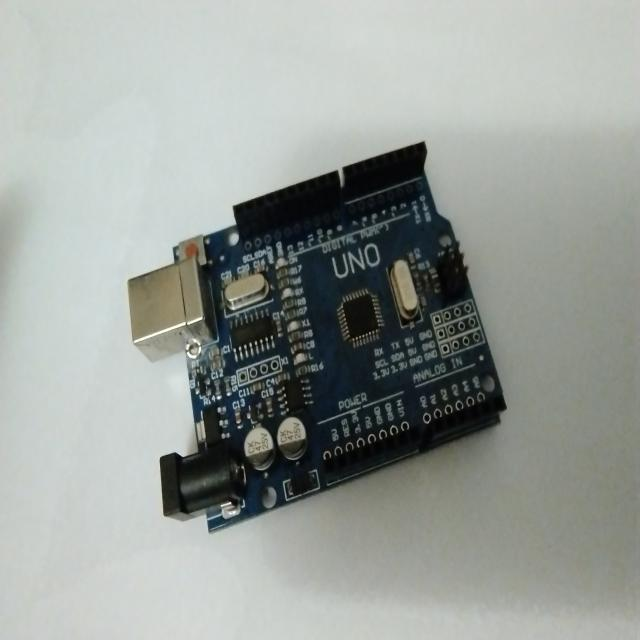arduino: (133, 132, 513, 528)
